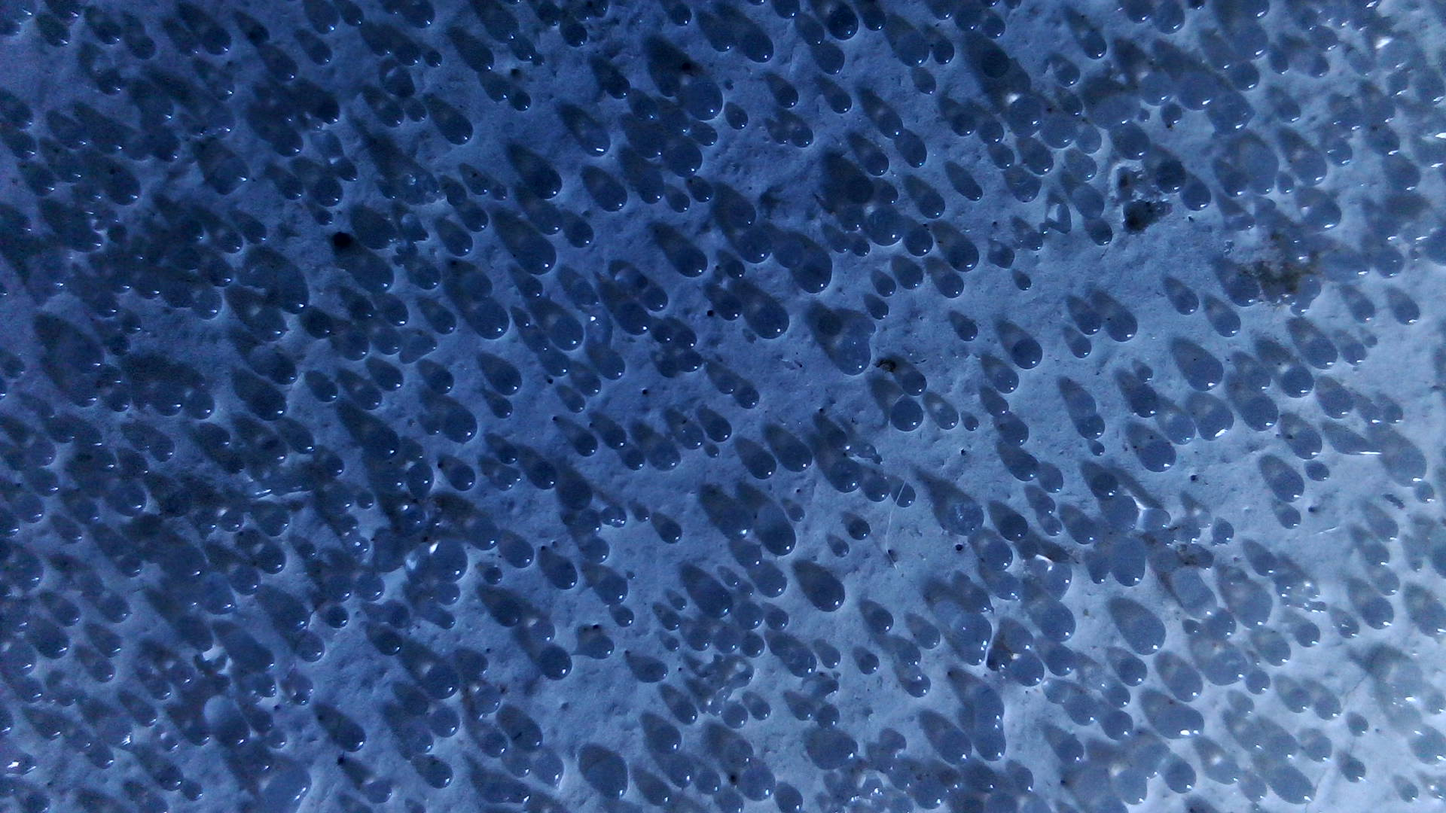GlassBeadSeg: (683, 81, 723, 121), (1127, 618, 1167, 653), (666, 141, 703, 178), (741, 764, 778, 801), (442, 408, 479, 445), (547, 316, 584, 353), (868, 209, 905, 246), (750, 306, 791, 339), (432, 547, 469, 583), (473, 305, 510, 341), (519, 239, 556, 275), (423, 666, 461, 700), (1159, 708, 1202, 737), (1009, 98, 1046, 131), (1140, 72, 1177, 105), (1179, 77, 1216, 110), (1215, 100, 1252, 133), (1243, 399, 1280, 432), (794, 263, 833, 294), (616, 305, 656, 335), (831, 346, 871, 376), (1391, 453, 1427, 486), (812, 578, 846, 612), (1041, 610, 1078, 641), (950, 499, 984, 532), (1330, 253, 1370, 281), (1277, 775, 1314, 805), (890, 398, 923, 431), (763, 522, 796, 555), (538, 650, 574, 680), (1188, 360, 1224, 390), (1008, 658, 1045, 687), (717, 511, 754, 540), (366, 431, 404, 459), (253, 392, 288, 422), (1307, 201, 1342, 231), (779, 444, 815, 473), (740, 232, 776, 261), (829, 464, 865, 493), (1295, 157, 1329, 187), (276, 284, 310, 314), (1116, 773, 1150, 803), (1170, 673, 1205, 702), (170, 552, 205, 581), (673, 250, 709, 278), (940, 740, 974, 769), (755, 569, 790, 597), (111, 487, 146, 515), (596, 577, 630, 605), (1228, 279, 1262, 307), (560, 482, 594, 510), (1009, 341, 1044, 368), (1164, 766, 1199, 793), (647, 444, 682, 471), (724, 204, 759, 231), (945, 244, 981, 270), (1118, 132, 1151, 160), (73, 344, 104, 373), (1323, 390, 1354, 419), (1363, 601, 1395, 629), (1106, 316, 1139, 343), (1130, 391, 1163, 418), (276, 606, 310, 632), (1307, 340, 1337, 369), (1285, 369, 1315, 398), (405, 465, 436, 493), (110, 177, 141, 205), (153, 134, 184, 162), (44, 315, 75, 343), (220, 157, 251, 185), (408, 176, 439, 204), (1144, 444, 1175, 472), (902, 232, 938, 256), (1069, 699, 1101, 726), (514, 726, 546, 753), (1272, 475, 1305, 501), (491, 369, 524, 395), (194, 291, 223, 320), (256, 313, 286, 341), (1292, 432, 1323, 459), (1165, 417, 1196, 444), (335, 726, 368, 751), (1045, 651, 1078, 676), (1262, 641, 1292, 668), (1011, 455, 1041, 482), (1000, 421, 1030, 448), (828, 737, 858, 764), (1207, 614, 1237, 641), (355, 574, 386, 600), (144, 96, 175, 122), (1003, 627, 1034, 653), (983, 545, 1014, 571), (424, 764, 456, 789), (746, 455, 778, 480), (294, 636, 326, 661), (479, 732, 511, 757), (468, 525, 500, 550), (1118, 661, 1151, 685), (429, 711, 462, 735), (204, 591, 237, 615), (1159, 165, 1187, 193), (186, 392, 215, 419), (97, 128, 127, 154), (61, 124, 91, 150), (999, 515, 1029, 541), (1108, 508, 1138, 534), (1088, 473, 1118, 499), (788, 652, 818, 678), (734, 603, 764, 629), (1187, 591, 1217, 617), (1240, 602, 1270, 628), (1218, 655, 1248, 681), (1416, 738, 1446, 764), (978, 735, 1008, 761), (101, 598, 132, 623), (649, 729, 681, 753), (968, 770, 1001, 793), (536, 758, 563, 786), (494, 16, 522, 43), (819, 47, 847, 74), (637, 131, 665, 158), (584, 129, 612, 156), (746, 35, 774, 62), (831, 11, 859, 38), (900, 39, 928, 66), (982, 50, 1010, 77), (405, 729, 434, 755), (473, 688, 502, 714), (1104, 714, 1134, 739), (504, 543, 534, 568), (896, 266, 926, 291), (495, 602, 525, 627), (152, 390, 182, 415), (1213, 313, 1244, 337), (1047, 121, 1074, 148), (1078, 192, 1105, 219), (1185, 184, 1212, 211), (233, 568, 260, 595), (342, 334, 369, 361), (1205, 412, 1234, 437), (862, 480, 893, 503), (273, 135, 304, 158), (842, 179, 873, 202), (532, 463, 558, 490), (222, 722, 248, 749), (415, 263, 441, 290), (446, 231, 472, 258), (367, 266, 393, 293), (317, 180, 343, 207), (446, 118, 472, 145), (208, 111, 236, 136), (1115, 566, 1146, 588), (409, 1, 435, 27), (450, 466, 476, 492), (248, 751, 274, 777), (285, 769, 311, 795), (10, 649, 36, 675), (16, 561, 42, 587), (41, 632, 67, 658), (34, 471, 60, 497), (260, 548, 286, 574), (308, 314, 334, 340), (367, 222, 393, 248), (568, 223, 594, 249), (600, 185, 626, 211), (535, 172, 561, 198), (205, 30, 232, 55), (1420, 608, 1445, 635), (462, 209, 490, 233), (58, 159, 86, 183), (716, 298, 746, 320), (68, 387, 101, 407), (636, 663, 667, 684), (1011, 181, 1042, 202), (273, 57, 299, 82), (313, 8, 339, 33), (468, 46, 494, 71), (1057, 741, 1084, 765), (325, 577, 352, 601), (1126, 0, 1153, 24), (721, 706, 750, 728), (641, 290, 670, 312), (545, 354, 574, 376), (17, 502, 47, 523), (185, 723, 215, 744), (1157, 10, 1183, 34), (1243, 36, 1269, 60), (1234, 67, 1260, 91), (920, 196, 947, 219), (706, 418, 733, 441), (1395, 167, 1422, 190), (1305, 741, 1333, 763), (900, 373, 929, 394), (599, 358, 628, 379), (8, 108, 37, 129), (366, 781, 392, 804), (1378, 253, 1404, 276), (938, 277, 965, 299), (463, 656, 490, 678), (12, 139, 40, 160), (507, 757, 535, 778), (207, 78, 235, 99), (4, 214, 32, 235), (30, 175, 58, 196), (773, 0, 802, 20), (344, 536, 373, 556), (386, 607, 412, 629), (572, 376, 602, 395), (323, 607, 350, 628), (1174, 294, 1201, 315), (679, 427, 706, 448), (349, 301, 377, 321), (916, 787, 944, 807), (1254, 556, 1282, 576), (538, 214, 566, 234), (737, 388, 762, 410), (151, 440, 176, 462), (377, 635, 404, 655), (1106, 689, 1133, 709), (1342, 762, 1367, 783), (622, 450, 648, 470), (279, 181, 305, 201), (604, 429, 630, 449), (677, 353, 703, 373), (496, 446, 523, 465), (956, 322, 981, 342), (290, 683, 315, 703), (824, 432, 849, 452), (183, 221, 205, 243), (121, 314, 143, 336), (139, 278, 161, 300), (792, 125, 814, 147), (864, 9, 886, 31), (932, 0, 954, 22), (981, 124, 1003, 146), (1161, 104, 1183, 126), (1075, 159, 1097, 181), (1331, 145, 1353, 167), (1280, 101, 1302, 123), (1346, 344, 1368, 366), (1074, 522, 1096, 544), (1043, 472, 1065, 494), (936, 408, 958, 430), (997, 578, 1019, 600), (848, 518, 870, 540), (908, 676, 930, 698), (717, 631, 739, 653), (708, 593, 730, 615), (731, 744, 753, 766), (673, 764, 695, 786), (690, 630, 712, 652), (388, 493, 410, 515), (556, 567, 578, 589), (533, 621, 555, 643), (268, 509, 290, 531), (122, 555, 144, 577), (21, 682, 43, 704), (41, 719, 63, 741), (60, 605, 82, 627), (78, 504, 100, 526), (131, 457, 153, 479), (316, 380, 338, 402), (210, 266, 232, 288), (521, 279, 543, 301), (692, 180, 714, 202), (1244, 728, 1266, 750), (1275, 738, 1297, 760), (400, 45, 423, 66), (343, 7, 366, 28), (92, 664, 117, 683), (651, 327, 676, 346), (721, 261, 747, 279), (222, 232, 243, 254), (180, 250, 202, 271), (49, 26, 71, 47), (99, 296, 121, 317), (14, 0, 36, 21), (276, 107, 298, 128), (487, 81, 509, 102), (609, 78, 631, 99), (777, 87, 799, 108), (803, 24, 825, 45), (830, 93, 852, 114), (933, 43, 955, 64), (953, 115, 975, 136), (907, 146, 928, 168), (881, 118, 903, 139), (867, 154, 889, 175), (1062, 96, 1084, 117), (1058, 65, 1079, 87), (1085, 38, 1107, 59), (994, 148, 1016, 169), (1032, 153, 1053, 175), (1213, 50, 1235, 71), (1424, 83, 1445, 105), (1080, 133, 1102, 154), (1092, 224, 1114, 245), (1225, 174, 1247, 195), (1344, 110, 1366, 131), (1377, 135, 1399, 156), (1374, 103, 1396, 124), (1398, 303, 1419, 325), (998, 371, 1019, 393), (1084, 417, 1105, 439), (988, 650, 1010, 671), (894, 486, 916, 507), (872, 610, 894, 631), (859, 653, 881, 674), (984, 698, 1005, 720), (819, 707, 841, 728), (699, 773, 721, 794), (769, 635, 791, 656), (767, 610, 789, 631), (605, 778, 627, 799), (661, 522, 682, 544), (587, 541, 609, 562), (676, 705, 698, 726), (650, 784, 672, 805), (781, 791, 803, 812), (740, 546, 761, 568), (331, 490, 353, 511), (383, 468, 404, 490), (576, 436, 598, 457), (223, 509, 245, 530), (294, 435, 316, 456), (265, 445, 287, 466), (173, 664, 194, 686), (161, 768, 183, 789), (136, 706, 158, 727), (54, 422, 76, 443), (33, 444, 55, 465), (110, 390, 132, 411), (431, 372, 453, 393), (360, 388, 382, 409), (389, 306, 410, 328), (436, 313, 458, 334), (245, 224, 267, 245), (641, 182, 663, 203), (1247, 781, 1269, 802), (1320, 699, 1342, 720), (1290, 691, 1312, 712), (1250, 673, 1272, 694), (867, 301, 890, 321), (60, 1, 83, 21), (100, 25, 123, 45), (249, 27, 272, 47), (101, 75, 124, 95), (381, 107, 404, 127), (312, 46, 335, 66), (565, 27, 588, 47), (596, 57, 619, 77), (603, 509, 627, 528), (1248, 372, 1272, 391), (99, 638, 124, 656), (44, 272, 65, 293), (636, 101, 657, 122), (959, 11, 980, 32), (985, 19, 1006, 40), (1354, 301, 1375, 322), (1035, 496, 1056, 517), (920, 627, 941, 648), (900, 645, 921, 666), (592, 637, 613, 658), (324, 457, 345, 478), (72, 729, 93, 750), (378, 333, 399, 354), (383, 370, 404, 391), (278, 363, 299, 384), (1218, 764, 1239, 785), (696, 126, 718, 146), (180, 37, 202, 57), (135, 40, 157, 60), (667, 114, 689, 134), (722, 792, 744, 812), (491, 400, 514, 419), (1279, 510, 1302, 529), (1069, 340, 1093, 358), (483, 568, 507, 586), (436, 586, 460, 604), (878, 185, 899, 205), (876, 278, 897, 298), (1081, 314, 1102, 334), (743, 637, 764, 656), (565, 397, 587, 415), (433, 611, 455, 629), (1423, 696, 1445, 714), (83, 232, 103, 251), (98, 247, 118, 266), (113, 273, 133, 292), (95, 749, 114, 769), (829, 542, 851, 559), (516, 42, 535, 61), (512, 92, 531, 111), (375, 38, 394, 57), (669, 28, 688, 47), (729, 110, 748, 129), (31, 793, 50, 812), (671, 194, 690, 213), (1134, 367, 1154, 385), (990, 400, 1010, 418), (341, 164, 359, 183), (410, 103, 428, 122), (544, 7, 562, 26), (674, 6, 692, 25), (714, 34, 733, 52), (448, 186, 466, 205), (661, 77, 680, 95), (1385, 406, 1403, 424), (1380, 524, 1398, 542), (1372, 551, 1390, 569), (1381, 577, 1399, 595), (1400, 687, 1418, 705), (1302, 629, 1320, 647), (127, 248, 146, 265), (86, 185, 105, 202), (1418, 487, 1436, 504), (1216, 526, 1234, 542), (1196, 512, 1214, 528), (1044, 520, 1062, 536), (973, 597, 991, 613), (975, 631, 993, 647), (879, 758, 897, 774), (865, 780, 883, 796), (943, 775, 961, 791), (796, 704, 814, 720), (754, 704, 772, 720), (663, 614, 681, 630), (358, 493, 376, 509), (226, 458, 244, 474), (213, 433, 231, 449), (154, 684, 172, 700), (162, 736, 180, 752), (97, 456, 115, 472), (104, 371, 122, 387), (113, 339, 131, 355), (103, 211, 121, 227), (77, 205, 95, 221), (17, 758, 35, 774), (13, 614, 31, 630), (1402, 786, 1420, 802), (1237, 699, 1255, 715), (1313, 466, 1330, 482), (1197, 555, 1214, 571), (967, 649, 984, 665), (896, 776, 913, 792), (199, 515, 216, 531), (86, 433, 103, 449), (786, 507, 804, 522), (1158, 532, 1176, 547), (1184, 621, 1202, 636), (1017, 778, 1035, 793), (890, 738, 908, 753), (842, 787, 860, 802), (824, 652, 842, 667), (616, 611, 634, 626), (257, 654, 275, 669), (181, 594, 199, 609), (260, 682, 278, 697), (270, 733, 288, 748), (255, 716, 273, 731), (65, 529, 83, 544), (62, 689, 80, 704), (2, 520, 20, 535), (9, 363, 27, 378), (1351, 719, 1369, 734), (920, 80, 937, 95), (1154, 511, 1171, 526), (188, 786, 205, 801), (1342, 623, 1359, 638), (664, 638, 681, 652), (384, 186, 400, 200), (427, 53, 443, 67), (706, 446, 723, 459), (474, 179, 489, 193), (493, 186, 508, 200), (318, 211, 333, 225), (324, 110, 339, 124), (308, 118, 323, 132), (422, 338, 437, 352), (516, 313, 531, 327), (533, 338, 548, 352), (1018, 277, 1032, 291), (1240, 217, 1254, 231), (1274, 60, 1288, 74), (1313, 64, 1327, 78), (1381, 228, 1395, 242), (1296, 301, 1310, 315), (1293, 249, 1307, 263), (1287, 233, 1301, 247), (1029, 237, 1044, 250), (1259, 181, 1274, 194), (969, 187, 983, 200), (1279, 181, 1293, 194), (1366, 413, 1380, 426), (825, 682, 839, 695), (710, 703, 724, 716), (588, 520, 602, 533), (345, 517, 359, 530), (427, 423, 441, 436), (499, 478, 513, 491), (1091, 572, 1106, 584), (964, 419, 979, 431), (389, 2, 402, 15), (728, 574, 741, 587), (741, 585, 754, 598), (674, 597, 687, 610), (699, 693, 712, 706), (638, 509, 651, 522), (335, 525, 348, 538), (409, 513, 422, 526), (411, 447, 424, 460), (1091, 444, 1105, 456), (302, 546, 316, 558), (533, 55, 546, 67), (777, 132, 790, 144), (848, 218, 861, 230), (836, 240, 849, 252), (578, 9, 590, 21), (588, 294, 600, 306), (857, 244, 869, 256), (744, 671, 754, 680), (715, 655, 725, 664), (280, 578, 290, 587), (512, 473, 522, 482), (627, 571, 636, 580), (432, 518, 441, 527), (956, 290, 958, 293)
